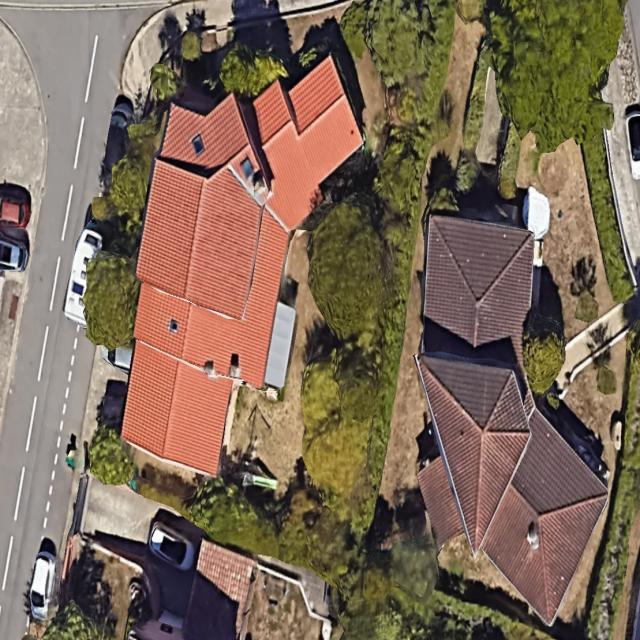maison: (47, 10, 386, 483), (344, 188, 640, 640)
